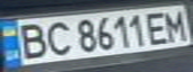1: (127, 11, 148, 47), (112, 12, 130, 48)
6: (93, 13, 115, 51)
8: (72, 16, 96, 53)
B: (12, 20, 51, 61)
C: (39, 19, 75, 56)
E: (142, 9, 172, 45)
M: (160, 7, 190, 42)
